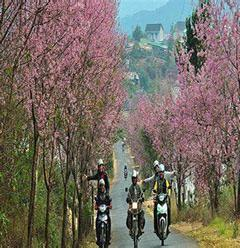motorcycle: (84, 193, 116, 248), (149, 182, 177, 244), (126, 183, 146, 244)
